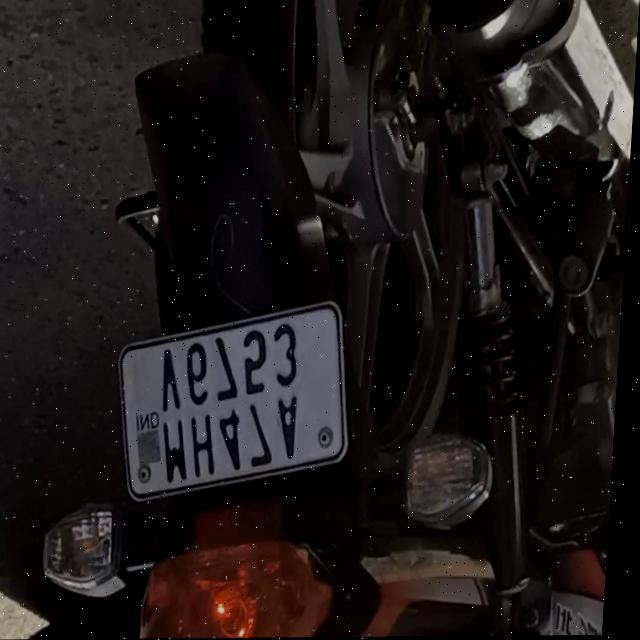plate: (111, 292, 362, 518)
